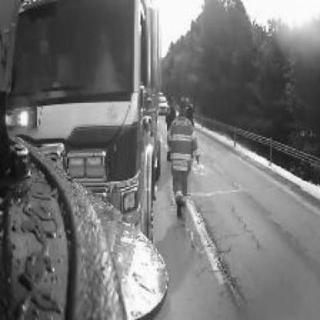other: (157, 118, 199, 210)
